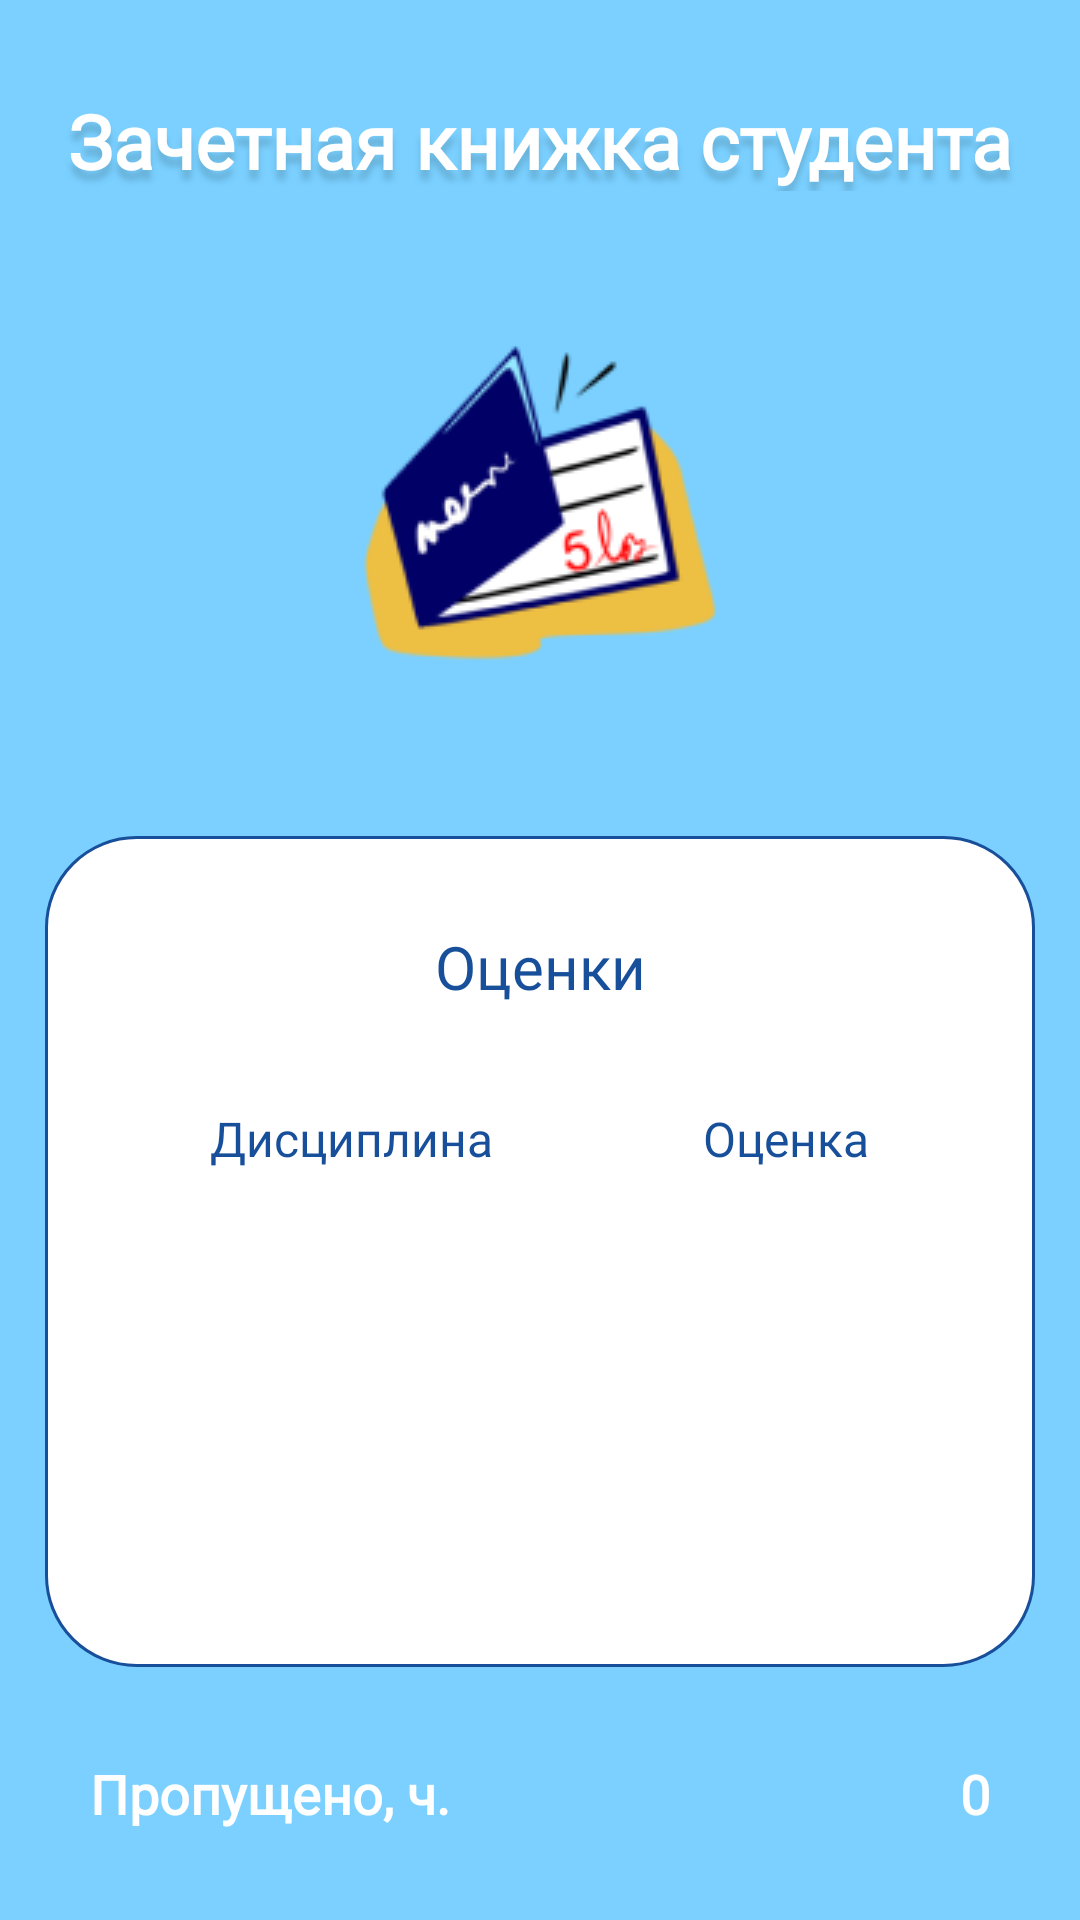

Named icons in this screenshot (1080*1920) and their bounding boxes, bbox=(x1, y1, x2, y2):
rec book: bbox=(364, 346, 716, 660)
